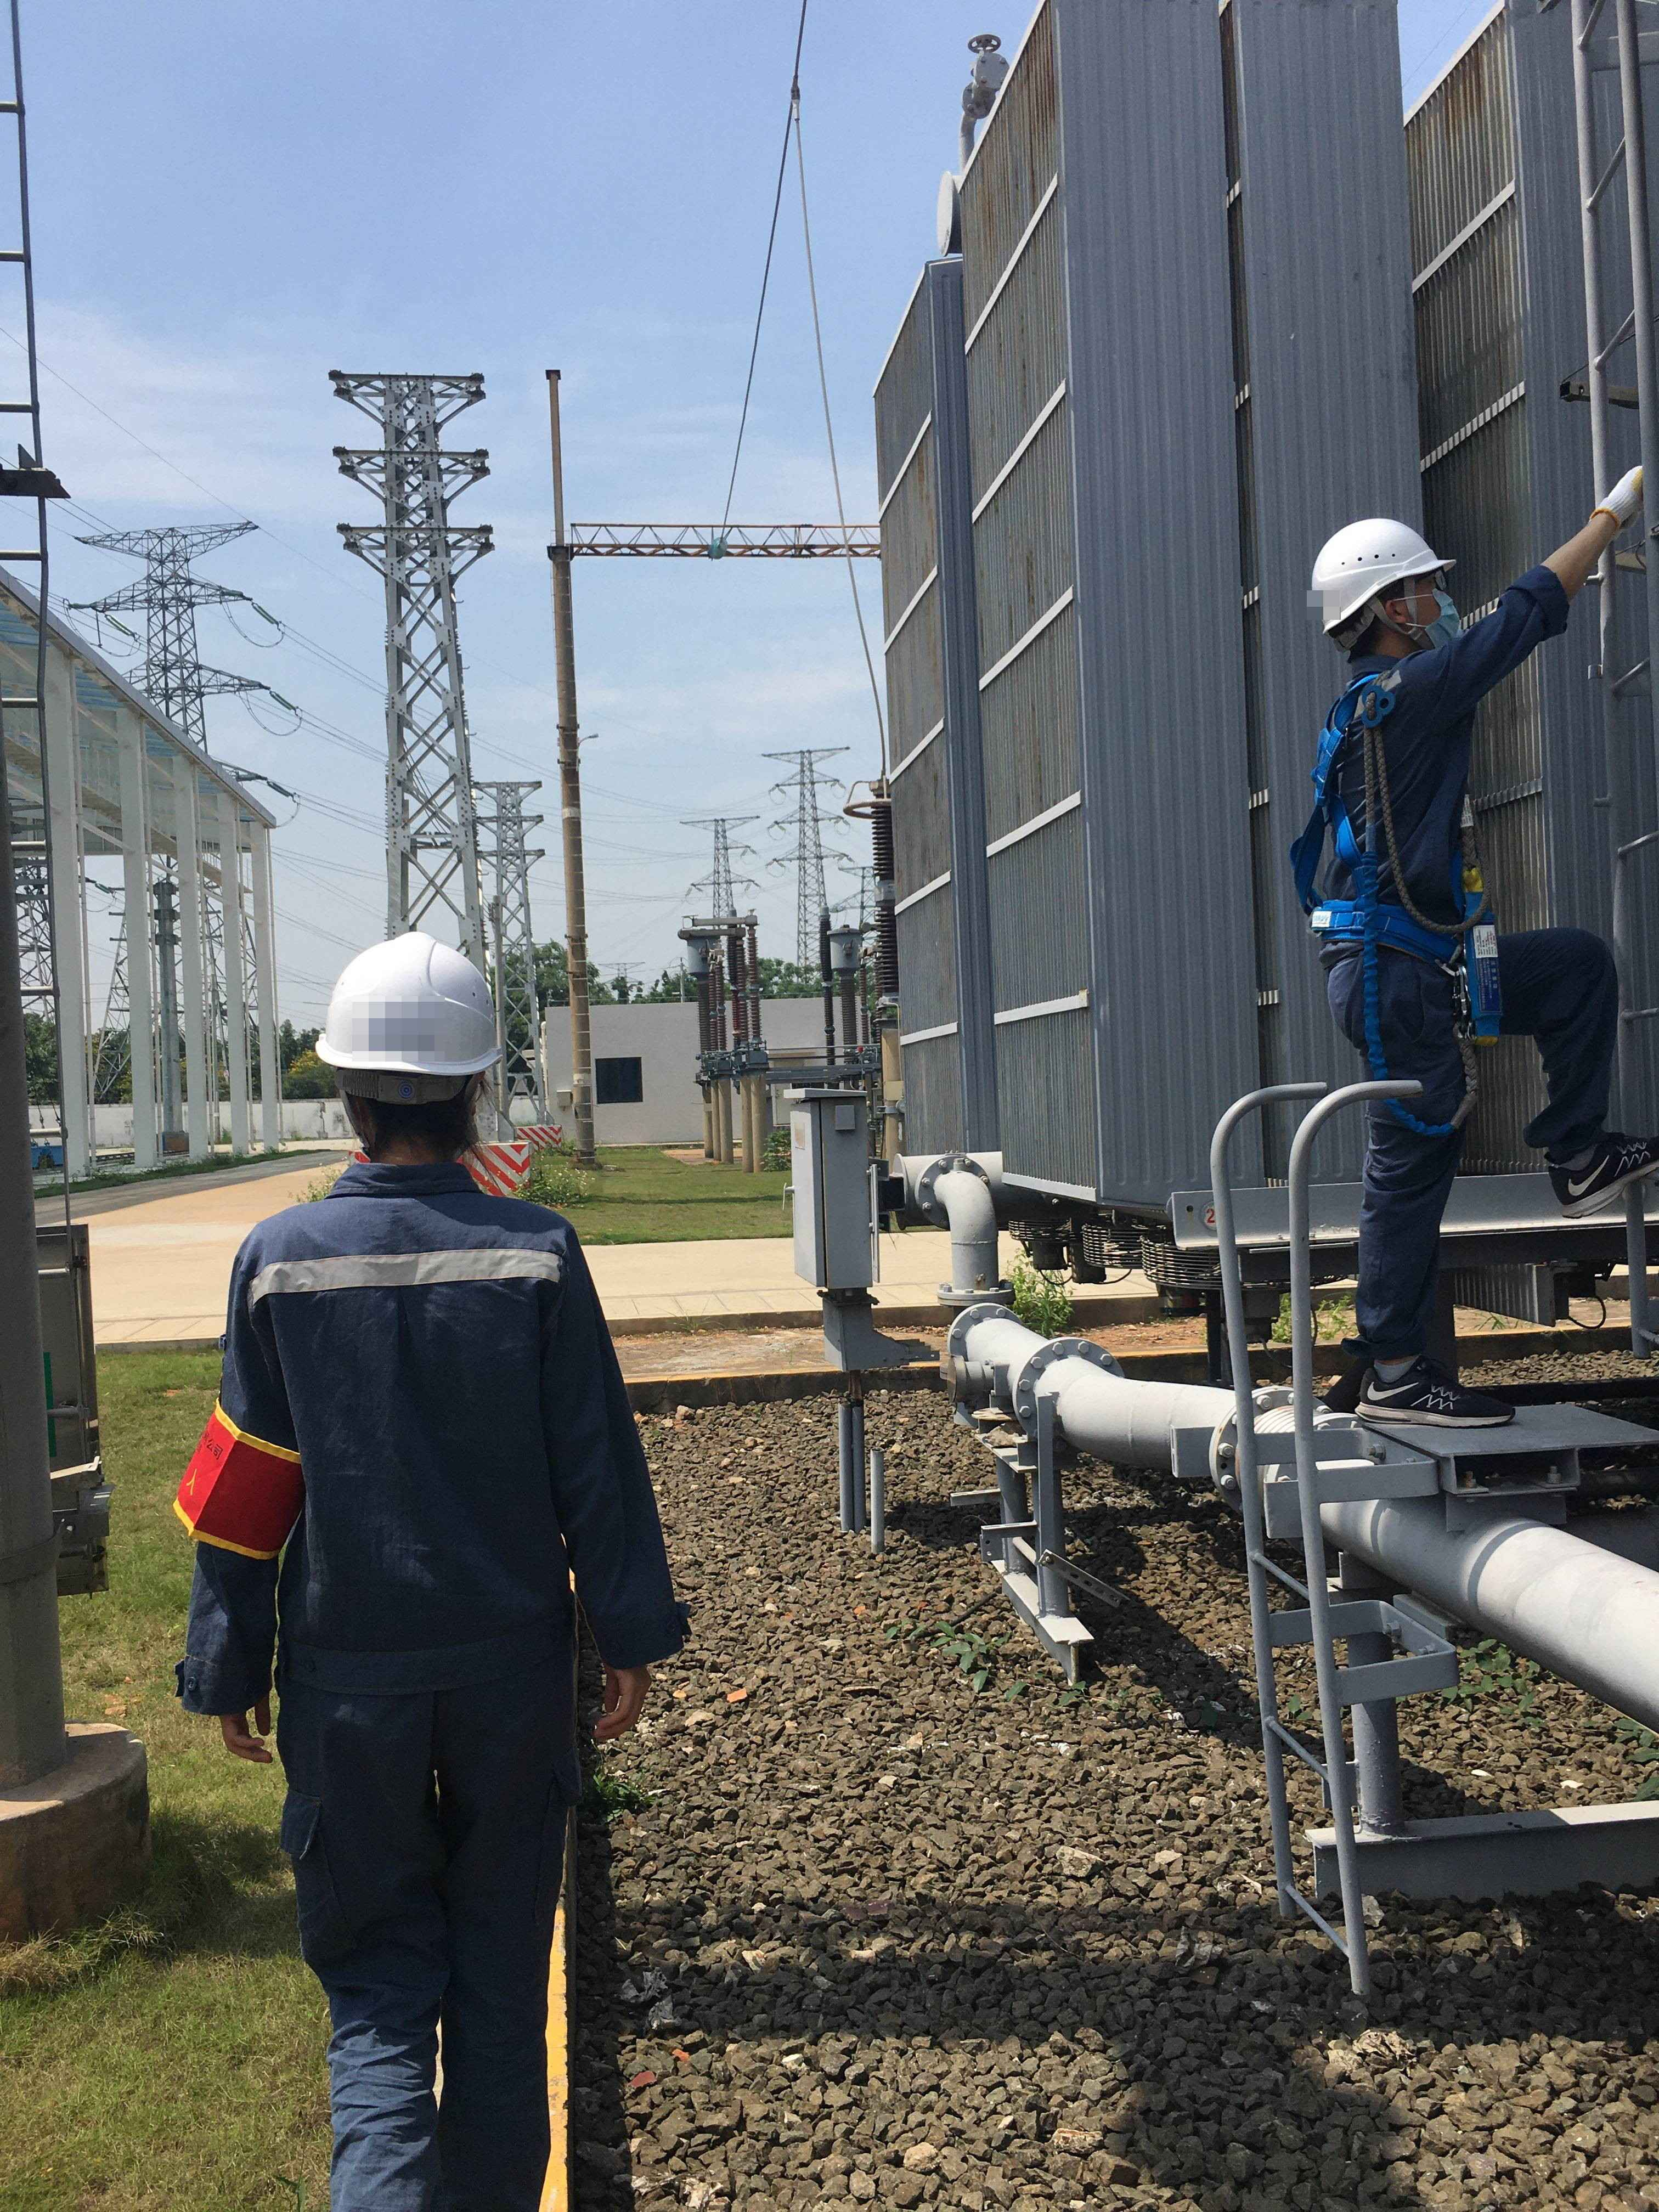downsuit: (274, 1714, 599, 2212), (1328, 928, 1624, 1386)
upsuit: (171, 1163, 697, 1705), (1295, 571, 1577, 916)
wrongtop: (1493, 489, 1635, 620)
